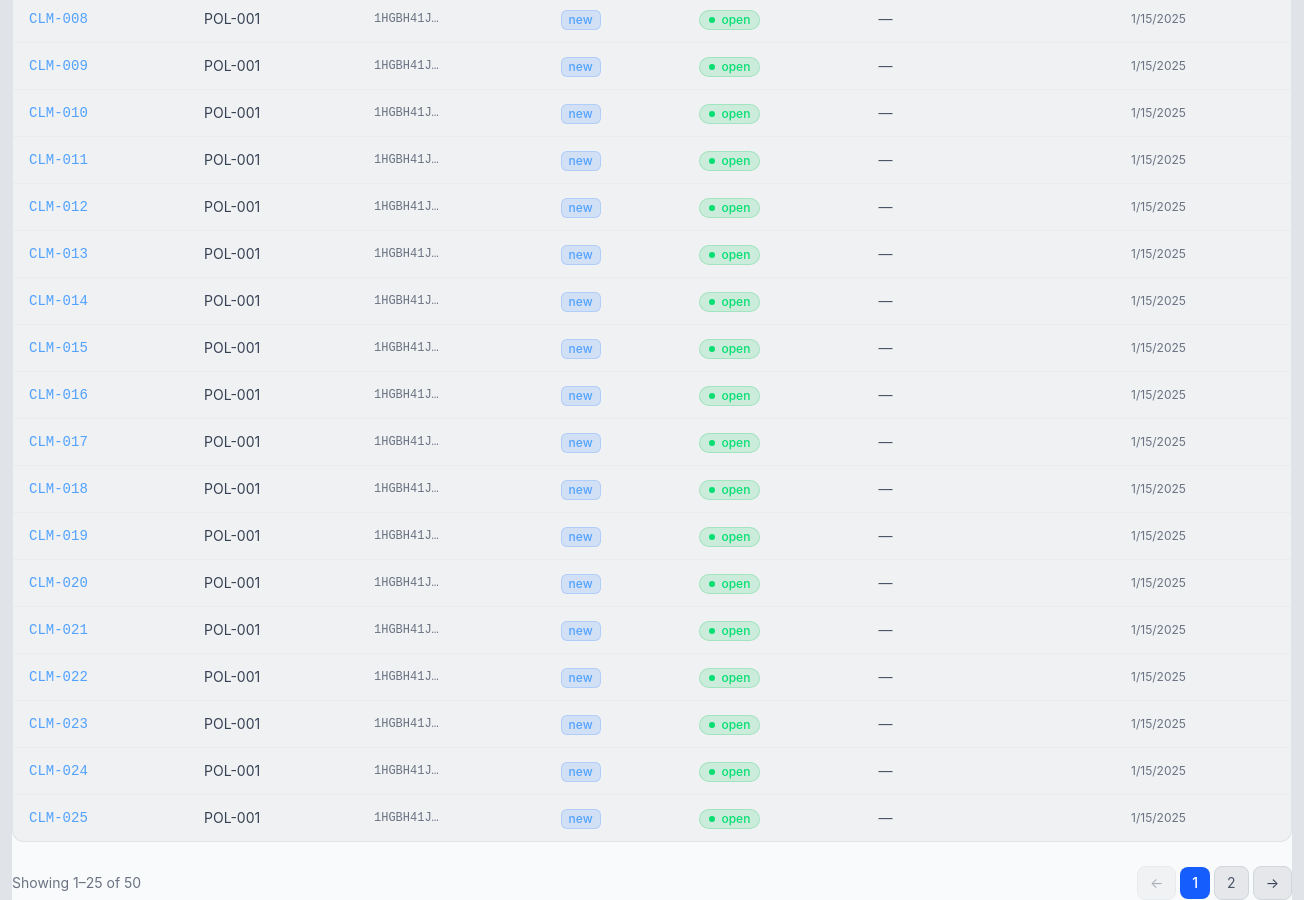
Test: ClaimsList › pagination next button advances page and reflects in URL
(page scrolled)
Expected: the text "Showing 1–25 of 50" is shown, top-left (12, 873), bottom-right (141, 893)
What coordinates should you click on to do the following:
click the button named "Next page"
I would click on:
 (1272, 883)
Its box is top-left (1253, 866), bottom-right (1292, 899).
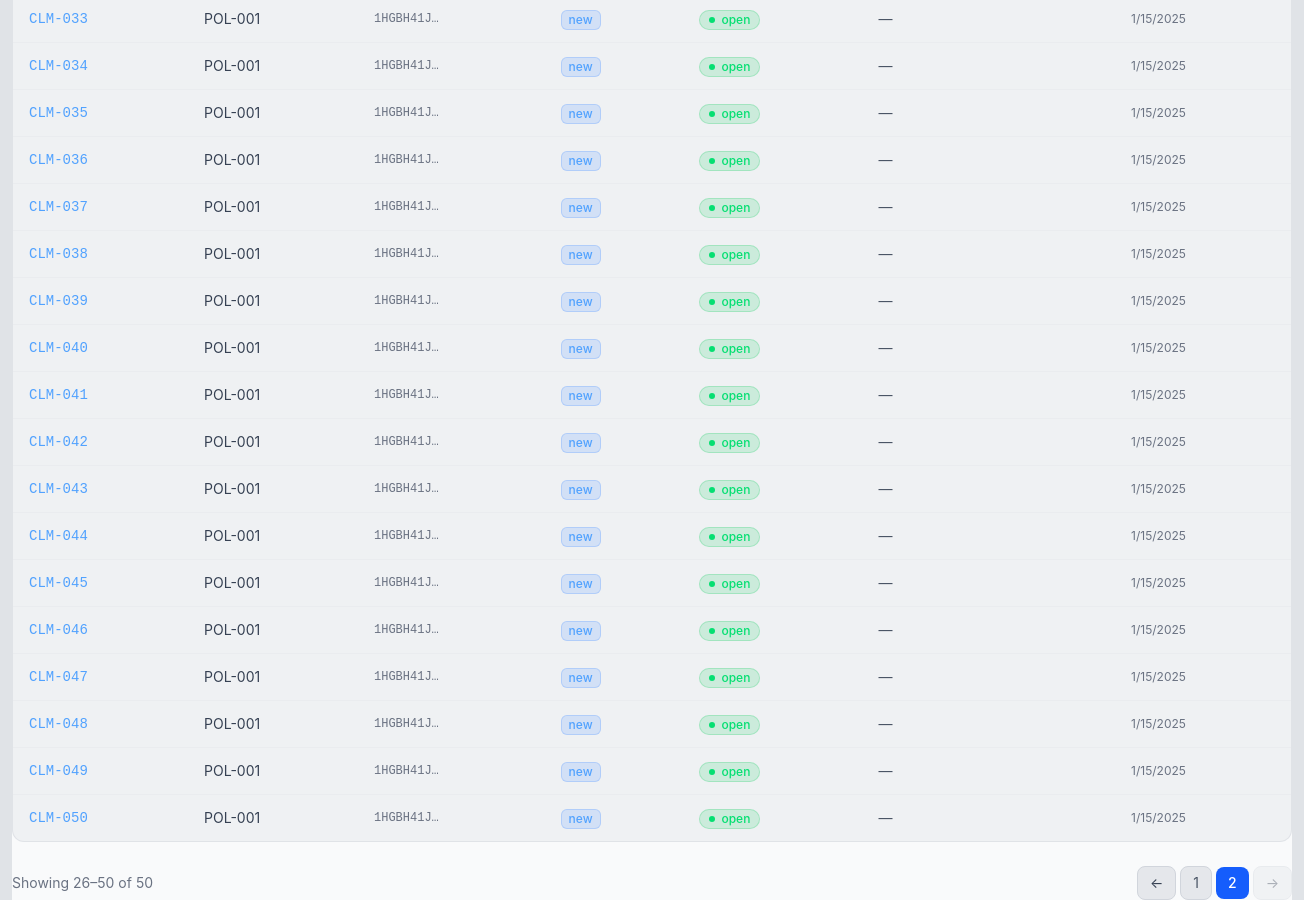
Expected: the text "Showing 26–50 of 50" is shown, top-left (12, 873), bottom-right (153, 893)
